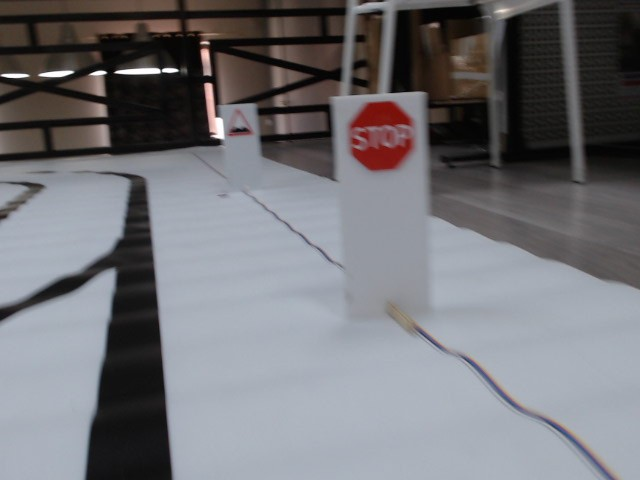Nerov: (226, 109, 253, 137)
Stop: (349, 102, 413, 169)
